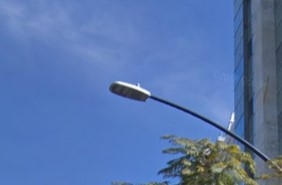light: (108, 80, 151, 102)
